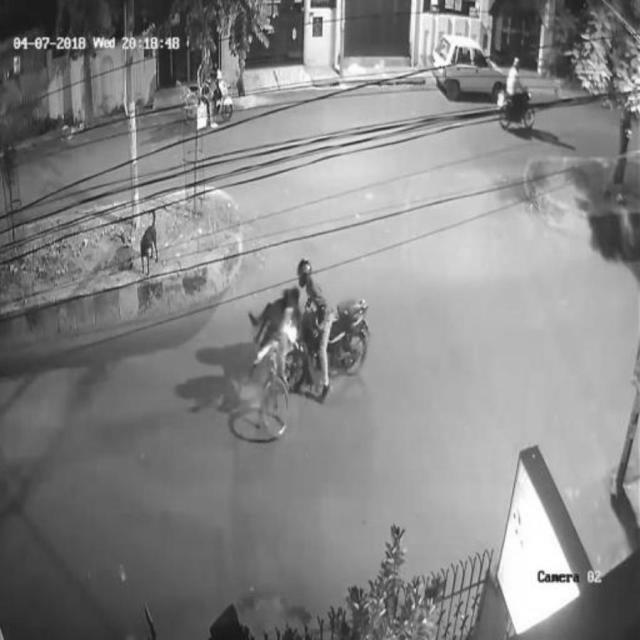accident: (250, 251, 372, 447)
vehicle: (428, 33, 505, 103), (184, 51, 232, 121), (500, 57, 537, 140)
